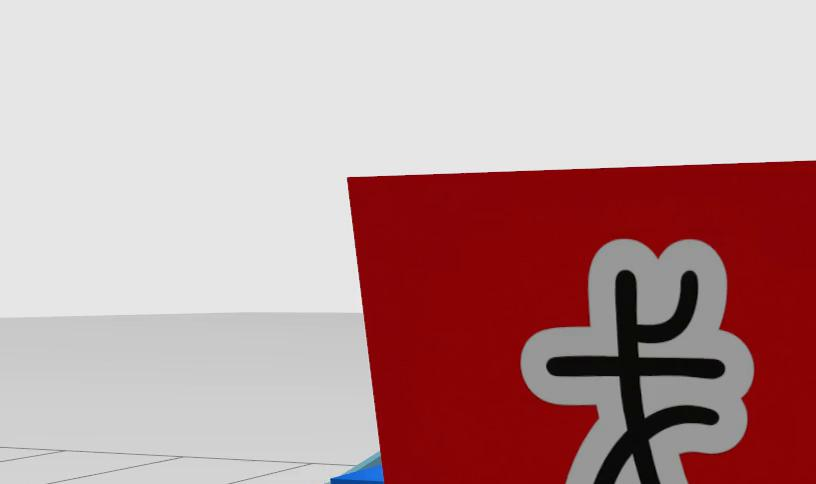KFS_REAL: (350, 161, 816, 484), (521, 239, 752, 484)
